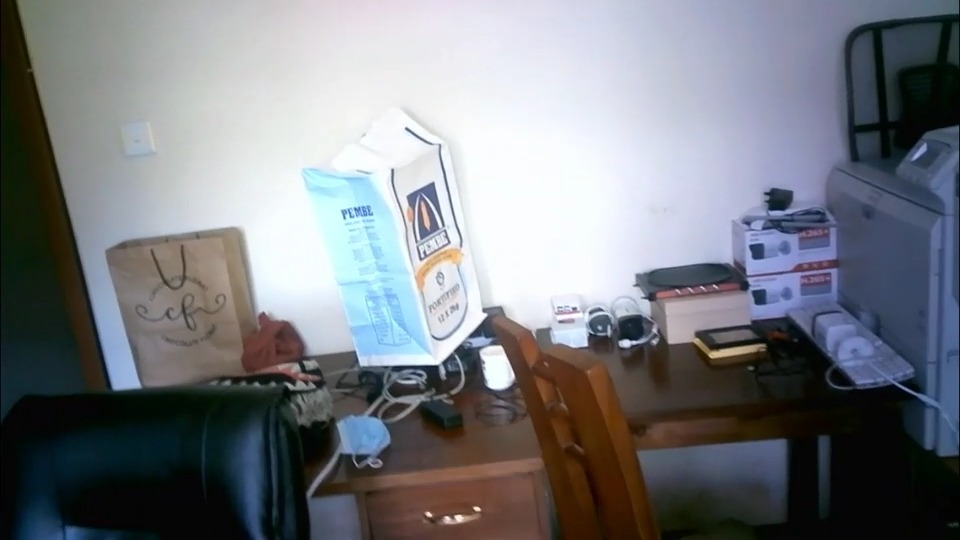wheat_flour_blue_label: (302, 106, 484, 364)
